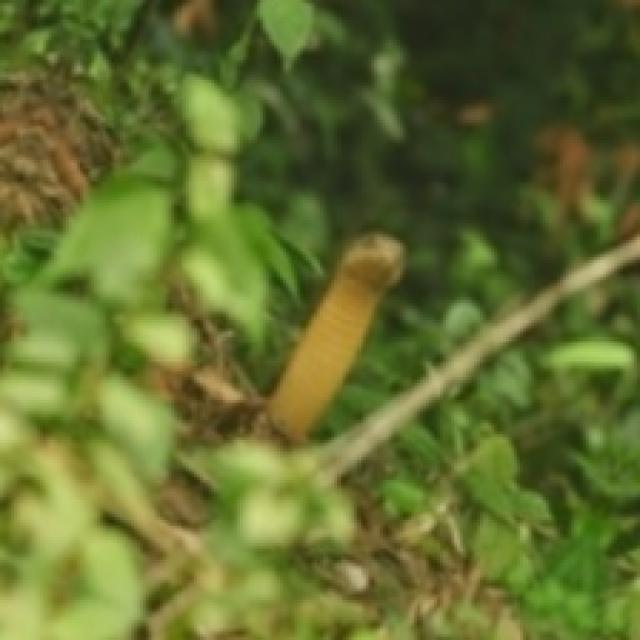king cobra: (269, 234, 403, 440)
